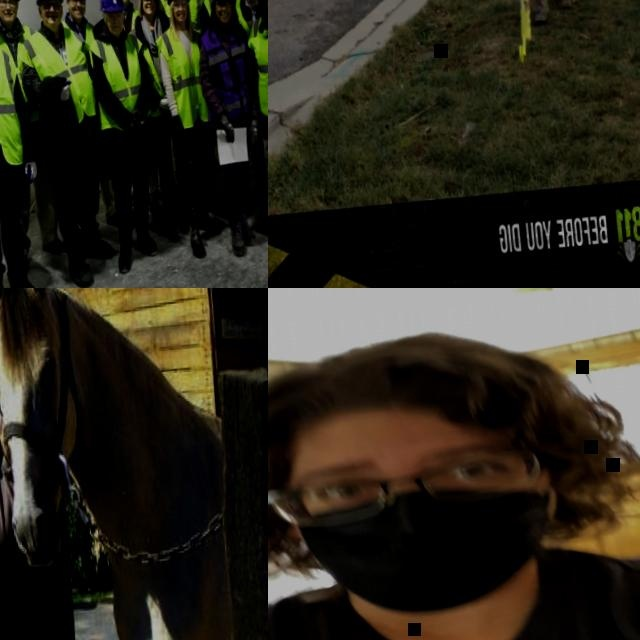Hardhat: (97, 0, 124, 13)
Mask: (288, 479, 569, 622)
NO-Hardhat: (268, 318, 582, 467)
NO-Mask: (42, 12, 61, 28), (108, 21, 124, 36), (215, 10, 231, 25), (69, 6, 85, 20), (141, 3, 156, 17), (173, 9, 188, 23), (0, 9, 14, 22), (118, 0, 131, 4)
NO-Safety Vest: (268, 534, 640, 640), (0, 450, 47, 640)
Person: (268, 303, 640, 640), (8, 0, 117, 288), (82, 0, 170, 275), (189, 0, 268, 259), (150, 0, 222, 261), (0, 0, 66, 273), (150, 0, 227, 202), (0, 0, 53, 288), (126, 0, 189, 242), (58, 0, 121, 225), (106, 0, 162, 225), (212, 0, 262, 200), (226, 0, 268, 225), (239, 0, 268, 266)
Safety Vest: (14, 23, 97, 131), (87, 30, 151, 135), (153, 25, 208, 132), (196, 22, 254, 122), (0, 18, 48, 125), (127, 23, 166, 120), (0, 35, 26, 178), (243, 7, 268, 121), (61, 15, 97, 69), (157, 0, 210, 34), (234, 0, 265, 35), (199, 0, 243, 19), (121, 8, 140, 33)
